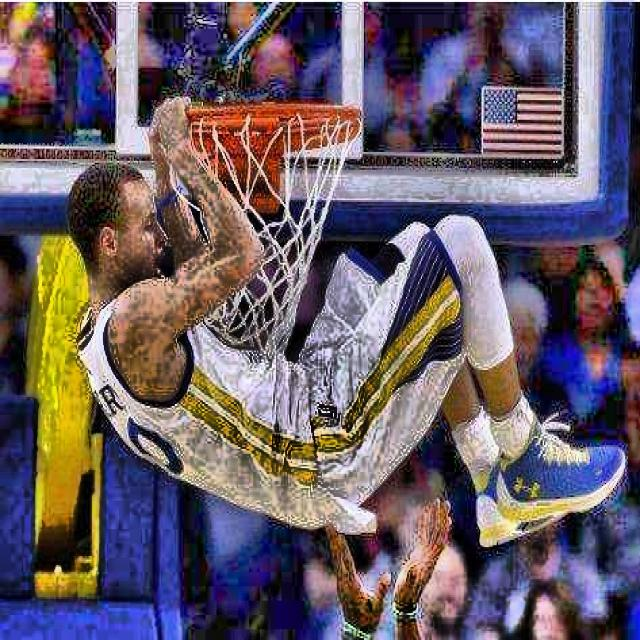rim: (186, 105, 361, 348)
